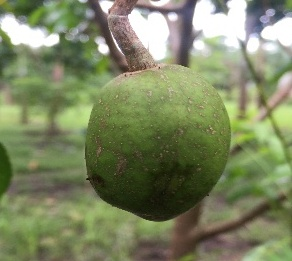Coc: (87, 64, 230, 222)
